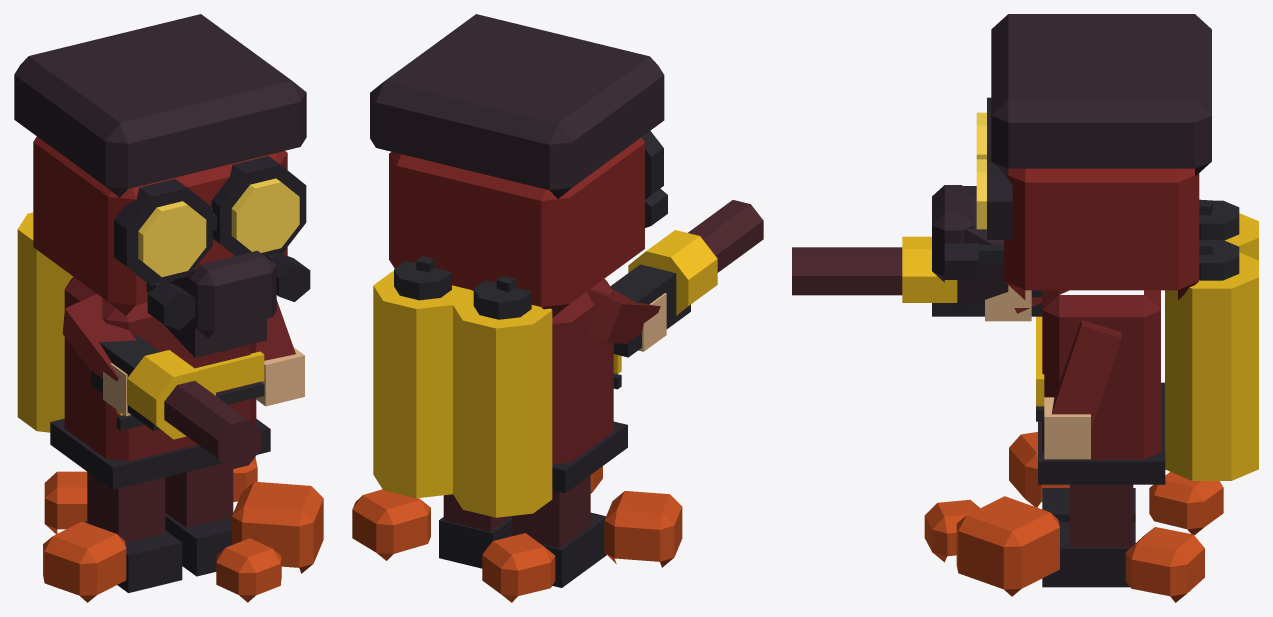
The model's file is blinder_r3.glb.
The picture shows the model from 3 angles, left to right: view 1: azimuth 30°, elevation 25°; view 2: azimuth 150°, elevation 25°; view 3: azimuth 270°, elevation 25°; orthographic projection. The views are drawn at different scales.
Parts seen in each view (by area): view 1: blinder_r3_mesh; view 2: blinder_r3_mesh; view 3: blinder_r3_mesh.
Part boxes in pixels (bbox=[...]): blinder_r3_mesh: bbox=[14, 14, 323, 602]; blinder_r3_mesh: bbox=[352, 14, 763, 602]; blinder_r3_mesh: bbox=[792, 14, 1258, 602].
Size of the model in its own units: 0.9013 by 1.6 by 1.35.
Materials: 1 (1 with a texture image).
